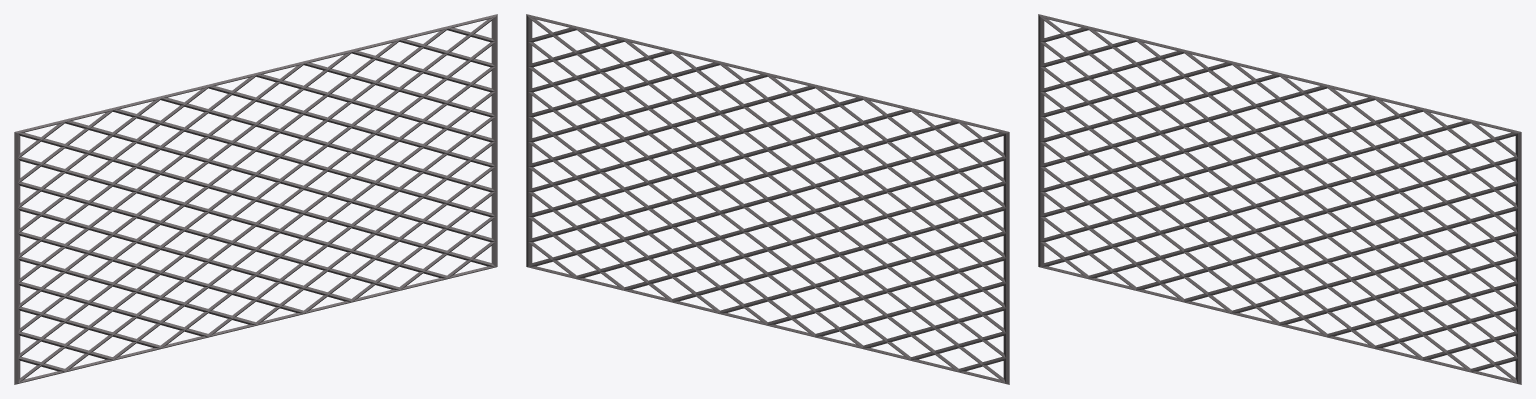
Rendered from cpsMap_MetalFence.obj.
3 views of the same model, side by side, from view 1: azimuth 30°, elevation 25°; view 2: azimuth 150°, elevation 25°; view 3: azimuth 330°, elevation 25° (orthographic).
Visible parts, largest first — view 1: MetalFence.057_Plane.192_Plane.063; view 2: MetalFence.057_Plane.192_Plane.063; view 3: MetalFence.057_Plane.192_Plane.063.
Part boxes in pixels (bbox=[...]): MetalFence.057_Plane.192_Plane.063: bbox=[14, 14, 497, 384]; MetalFence.057_Plane.192_Plane.063: bbox=[526, 14, 1009, 384]; MetalFence.057_Plane.192_Plane.063: bbox=[1038, 14, 1521, 384].
Size of the model in its own units: 12.03 by 6.01 by 0.0743.
